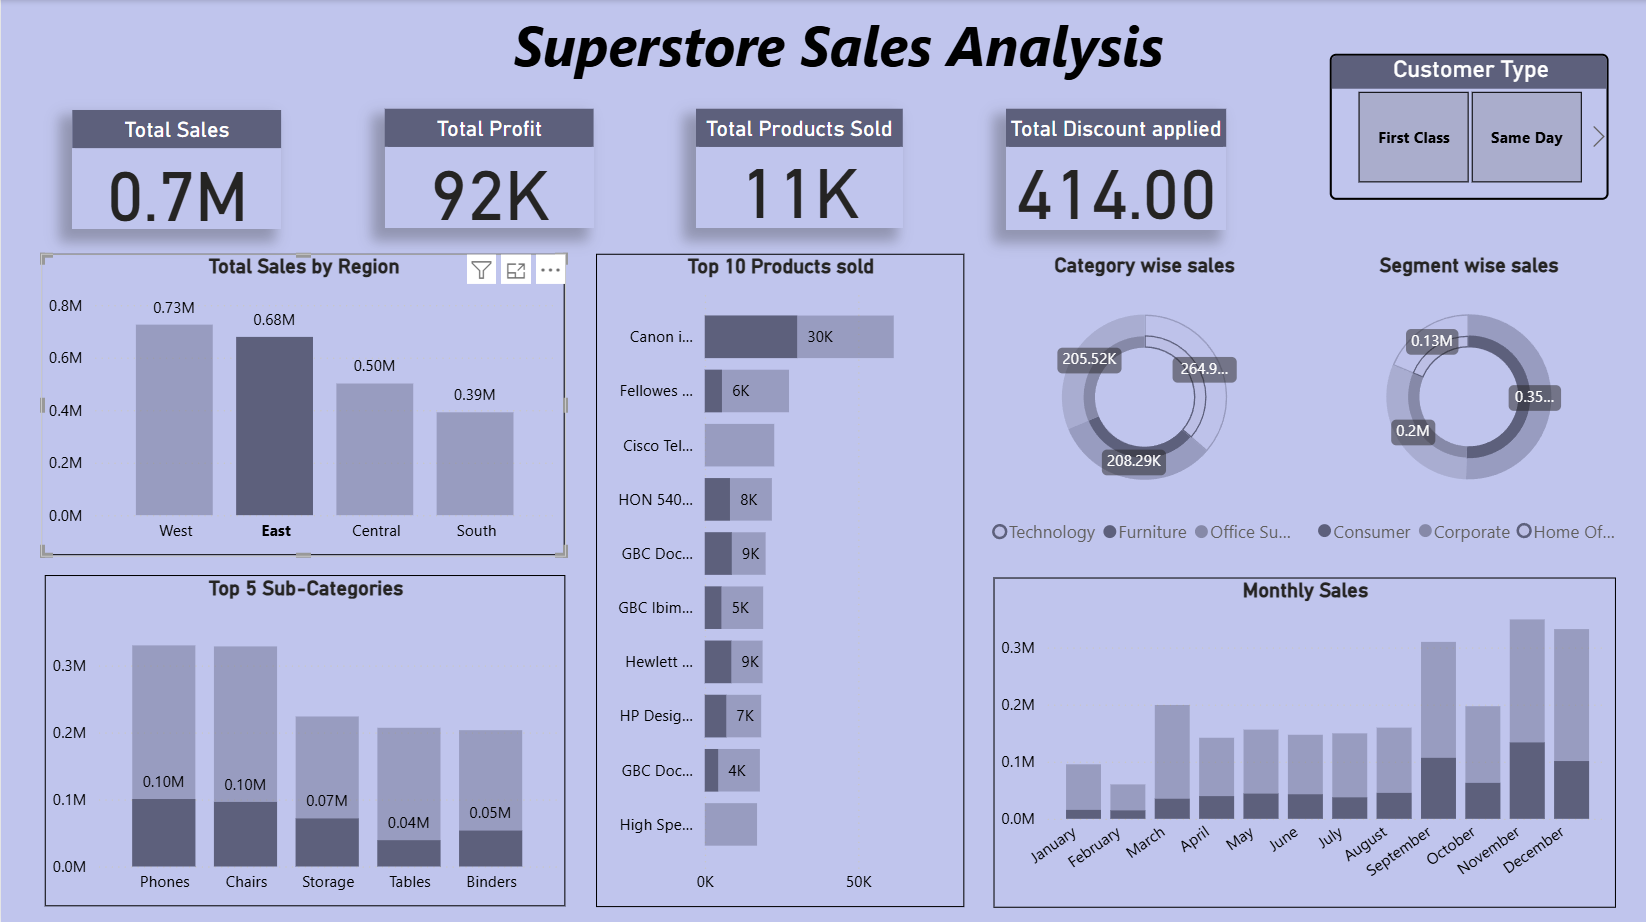

The page's visual inventory and layout, read from the dashboard file:
{"tool":"powerbi","page":{"name":"Page 1","canvas":[1280,720],"ordinal":0},"visuals":[{"type":"columnChart","title":"Total Sales by Region","fields":{"Category":["Orders.Region"],"Y":["Sum(Orders.Sales)"]},"box":[31.6,197.6,407.5,234.6],"z":0},{"type":"columnChart","title":"Monthly Sales","fields":{"Category":["Orders.Order Date.Variation.Date Hierarchy.Month"],"Y":["Sum(Orders.Sales)"]},"box":[772.1,448.8,483.7,257],"z":1000},{"type":"donutChart","title":"Segment wise sales","fields":{"Category":["Orders.Segment"],"Y":["Sum(Orders.Sales)"]},"box":[1016.8,197.6,249.7,234.6],"z":2000},{"type":"columnChart","title":"Top 5 Sub-Categories","fields":{"Y":["Sum(Orders.Sales)"],"Category":["Orders.Sub-Category"]},"box":[34.3,447.3,404.8,258],"z":3000},{"type":"card","title":"Total Profit","fields":{"Values":["Sum(Orders.Profit)"]},"box":[298.4,84.6,162.8,93],"z":4000,"group":"g2"},{"type":"card","title":"Total Products Sold","fields":{"Values":["Sum(Orders.Quantity)"]},"box":[540.4,84.6,160.5,93],"z":4000,"group":"g3"},{"type":"card","title":"Total Sales","fields":{"Values":["Sum(Orders.Sales)"]},"box":[55.4,85.5,162.8,93],"z":4000,"group":"g1"},{"type":"donutChart","title":"Category wise sales","fields":{"Category":["Orders.Category"],"Y":["Sum(Orders.Sales)"]},"box":[764.9,197.3,248.8,235.2],"z":4000},{"type":"card","title":"Total Discount applied","fields":{"Values":["Sum(Orders.Discount)"]},"box":[781.4,84.6,171.1,94.3],"z":5000},{"type":"clusteredBarChart","title":"Top 10 Products sold","fields":{"Category":["Orders.Product Name"],"Y":["Sum(Orders.Sales)"]},"box":[462.8,197.7,286,508.1],"z":6000},{"type":"textbox","box":[384.9,0,532.6,68.6],"z":7000},{"type":"group","id":"g1","title":"Group 1","box":[55.4,85.5,163.3,94.3],"z":8000},{"type":"group","id":"g2","title":"Group 1","box":[298.4,84.6,164.3,94.3],"z":9000},{"type":"group","id":"g3","title":"Group 1","box":[540.4,84.6,160.4,94.3],"z":10000},{"type":"slicer","title":"Customer Type","fields":{"Values":["Orders.Ship Mode"]},"box":[1033.2,41.8,216.7,113.7],"z":11000}]}

Visuals, with their boxes in screenshot pixels (x1, y1, x2, y2), scaled from the page's 1280x720 canvas onto the 1646x922 screenshot:
"Total Sales by Region" columnChart: 41/253/565/553
"Monthly Sales" columnChart: 993/575/1615/904
"Segment wise sales" donutChart: 1308/253/1629/553
"Top 5 Sub-Categories" columnChart: 44/573/565/903
"Total Profit" card: 384/108/593/227
"Total Products Sold" card: 695/108/901/227
"Total Sales" card: 71/109/281/229
"Category wise sales" donutChart: 984/253/1304/554
"Total Discount applied" card: 1005/108/1225/229
"Top 10 Products sold" clusteredBarChart: 595/253/963/904
textbox: 495/0/1180/88
"Group 1" group: 71/109/281/230
"Group 1" group: 384/108/595/229
"Group 1" group: 695/108/901/229
"Customer Type" slicer: 1329/54/1607/199
